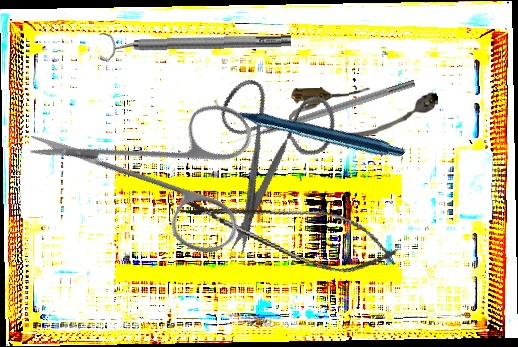Cannula: (288, 83, 439, 141)
Fixation Ring: (99, 26, 292, 62)
Handpiece: (211, 26, 408, 228)
Hook Surgical: (231, 77, 416, 147)
Iris Scissors: (24, 32, 297, 307), (174, 55, 371, 262)
Micro Scissor: (172, 179, 404, 285)
